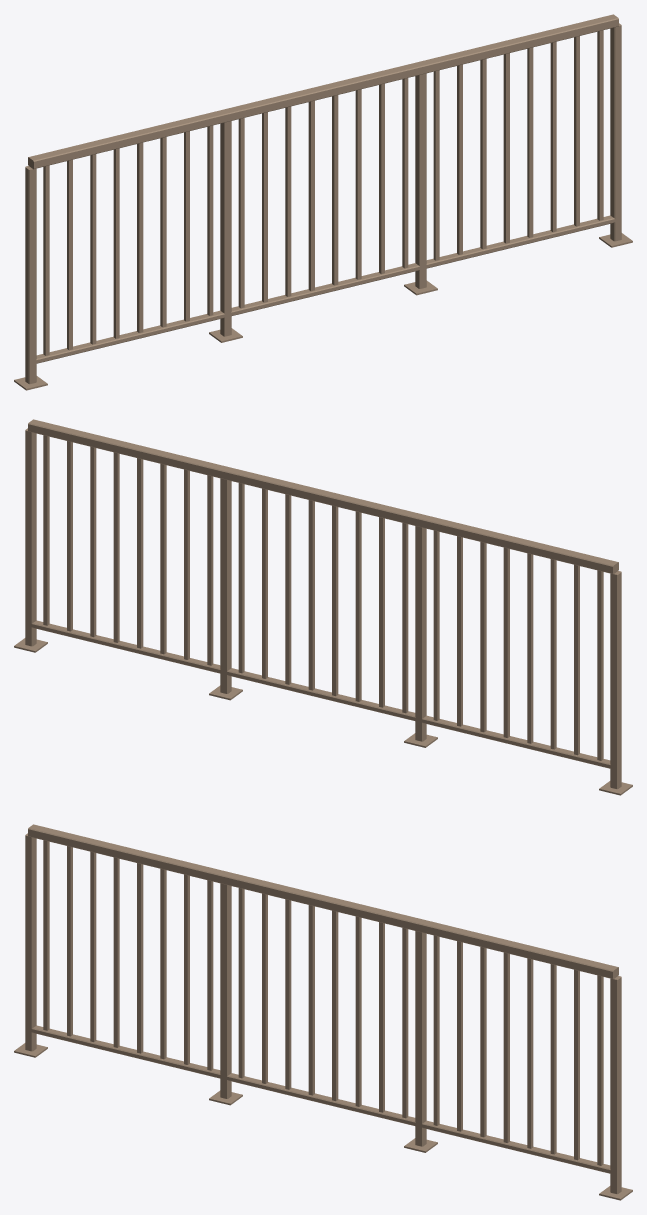
Rendered from gc-s80b-barreaudage-300-quartz-1019.glb.
The picture shows the model from 3 angles, top to bottom: view 1: azimuth 30°, elevation 25°; view 2: azimuth 150°, elevation 25°; view 3: azimuth 330°, elevation 25°; orthographic projection.
Parts seen in each view (by area): view 1: structure; view 2: structure; view 3: structure.
Part boxes in pixels (x1,y1,x2,y2): structure: [14, 14, 632, 390]; structure: [14, 419, 632, 795]; structure: [14, 824, 632, 1200].
Size of the model in its own units: 3.11 by 1.1 by 0.11.
